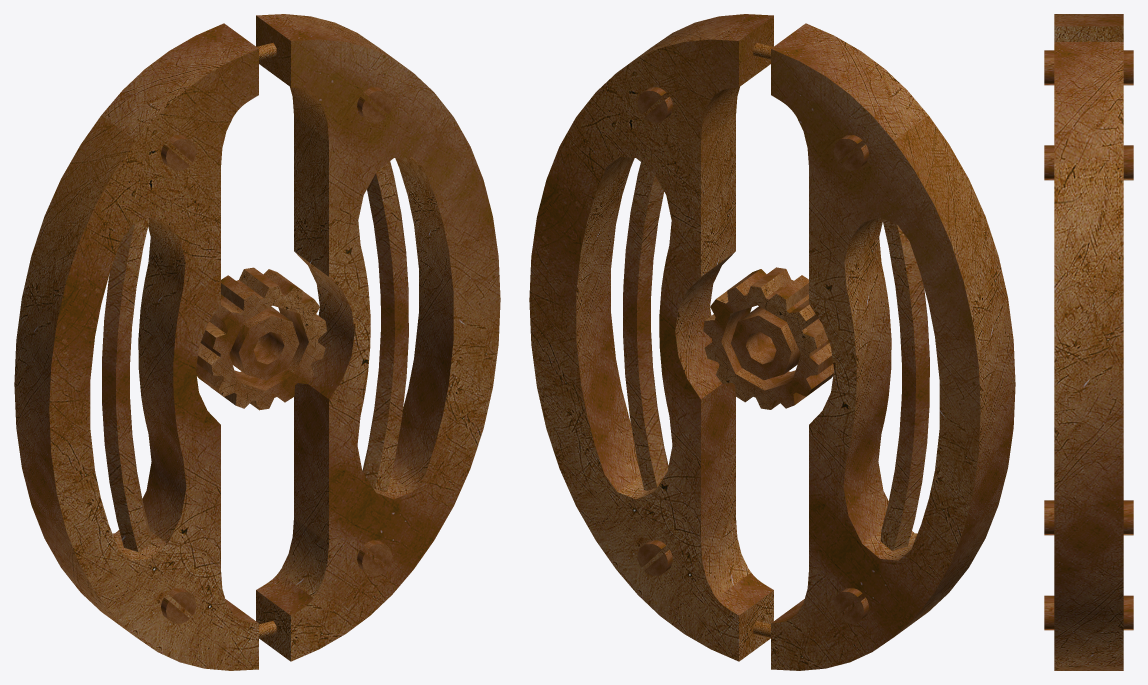
3 views of the same model, side by side, from view 1: azimuth 30°, elevation 25°; view 2: azimuth 150°, elevation 25°; view 3: azimuth 270°, elevation 25° (orthographic).
Visible parts, largest first — view 1: 038, Cogwheel_396, Tube_643, Tube_697, Screw_767, Screw_758, Screw_768, Screw_757; view 2: 038, Cogwheel_396, Tube_643, Tube_697, Screw_767, Screw_758, Screw_757, Screw_768; view 3: 038, Screw_758, Screw_757, Screw_768, Screw_767.
Part boxes in pixels (x1,y1,x2,y2): 038: (14, 14, 500, 670); Cogwheel_396: (196, 267, 326, 410); Tube_643: (102, 217, 151, 551); Tube_697: (362, 161, 408, 492); Screw_767: (357, 540, 392, 575); Screw_758: (161, 588, 196, 623); Screw_768: (357, 87, 392, 122); Screw_757: (161, 135, 196, 170); 038: (529, 14, 1015, 670); Cogwheel_396: (703, 267, 833, 409); Tube_643: (880, 218, 929, 550); Tube_697: (623, 162, 668, 490); Screw_767: (637, 540, 672, 575); Screw_758: (833, 588, 868, 623); Screw_757: (833, 135, 868, 170); Screw_768: (637, 87, 672, 122); 038: (1054, 14, 1123, 670); Screw_758: (1044, 500, 1133, 535); Screw_757: (1044, 50, 1133, 85); Screw_768: (1044, 145, 1133, 180); Screw_767: (1044, 595, 1133, 630).
Size of the model in its own units: 74.63 by 98.09 by 12.89.
1 material, 1 textured.
